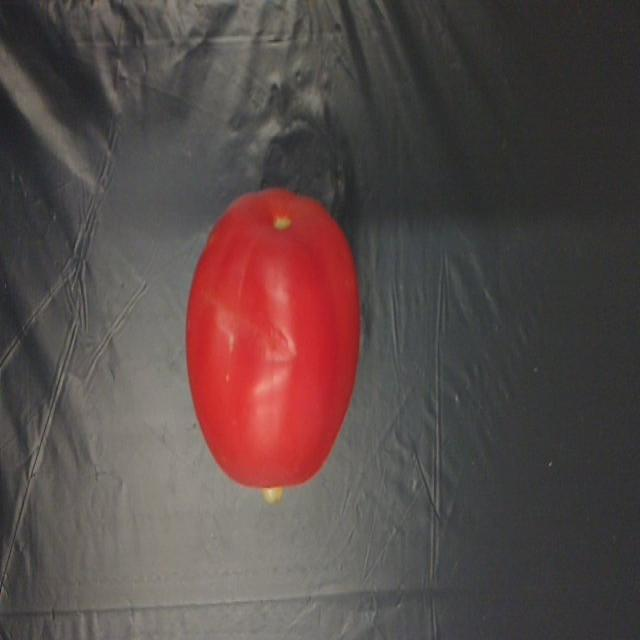kirmizi: (176, 179, 370, 501)
